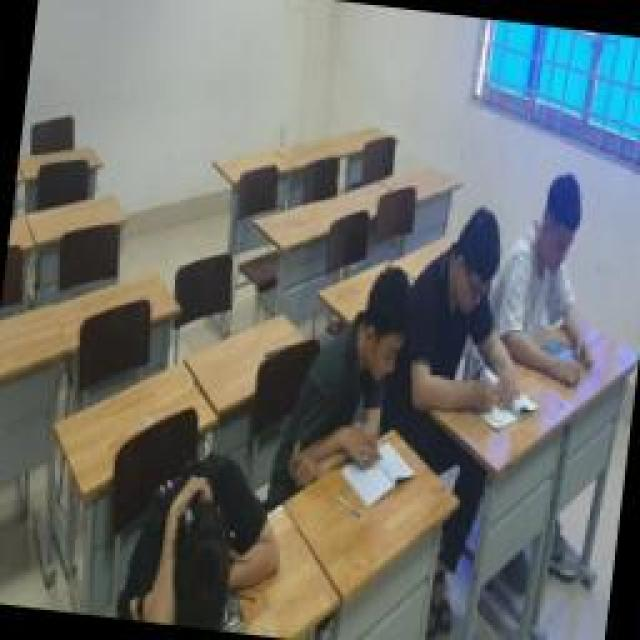sleep: (115, 442, 290, 638)
study: (398, 198, 540, 422), (282, 250, 412, 485), (487, 162, 615, 392)
